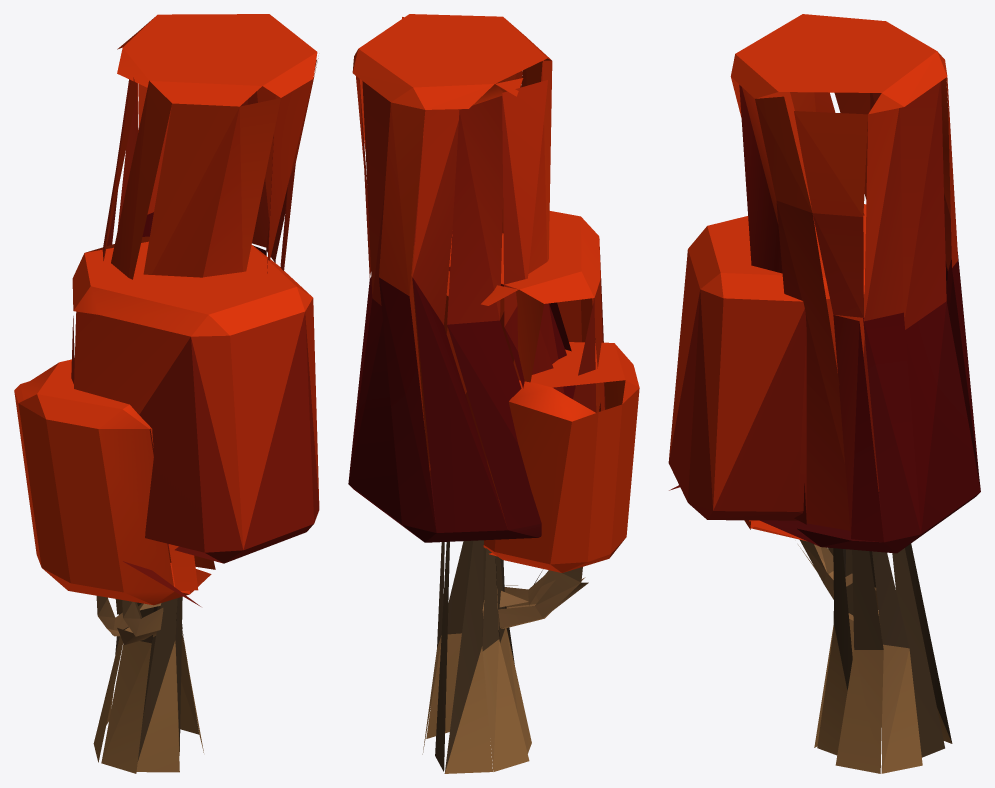
Rendered from angular_tree_stack__summer_low.glb.
3 renders of one model, left to right at view 1: azimuth 30°, elevation 25°; view 2: azimuth 150°, elevation 25°; view 3: azimuth 270°, elevation 25°, orthographic. The views are drawn at different scales.
Bounding box in the file's own units: 2.04 × 5.04 × 1.98.
